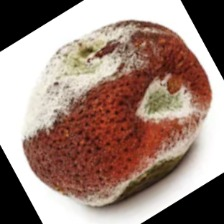orange: (23, 2, 219, 200)
